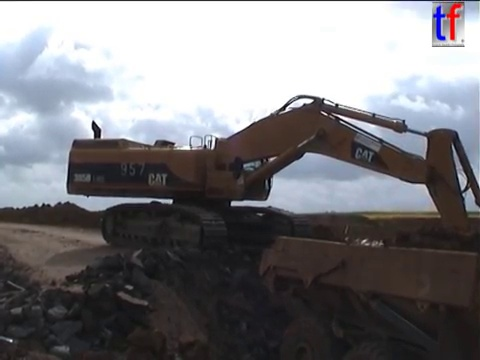excavator: (63, 92, 480, 293)
truck: (254, 216, 480, 360)
